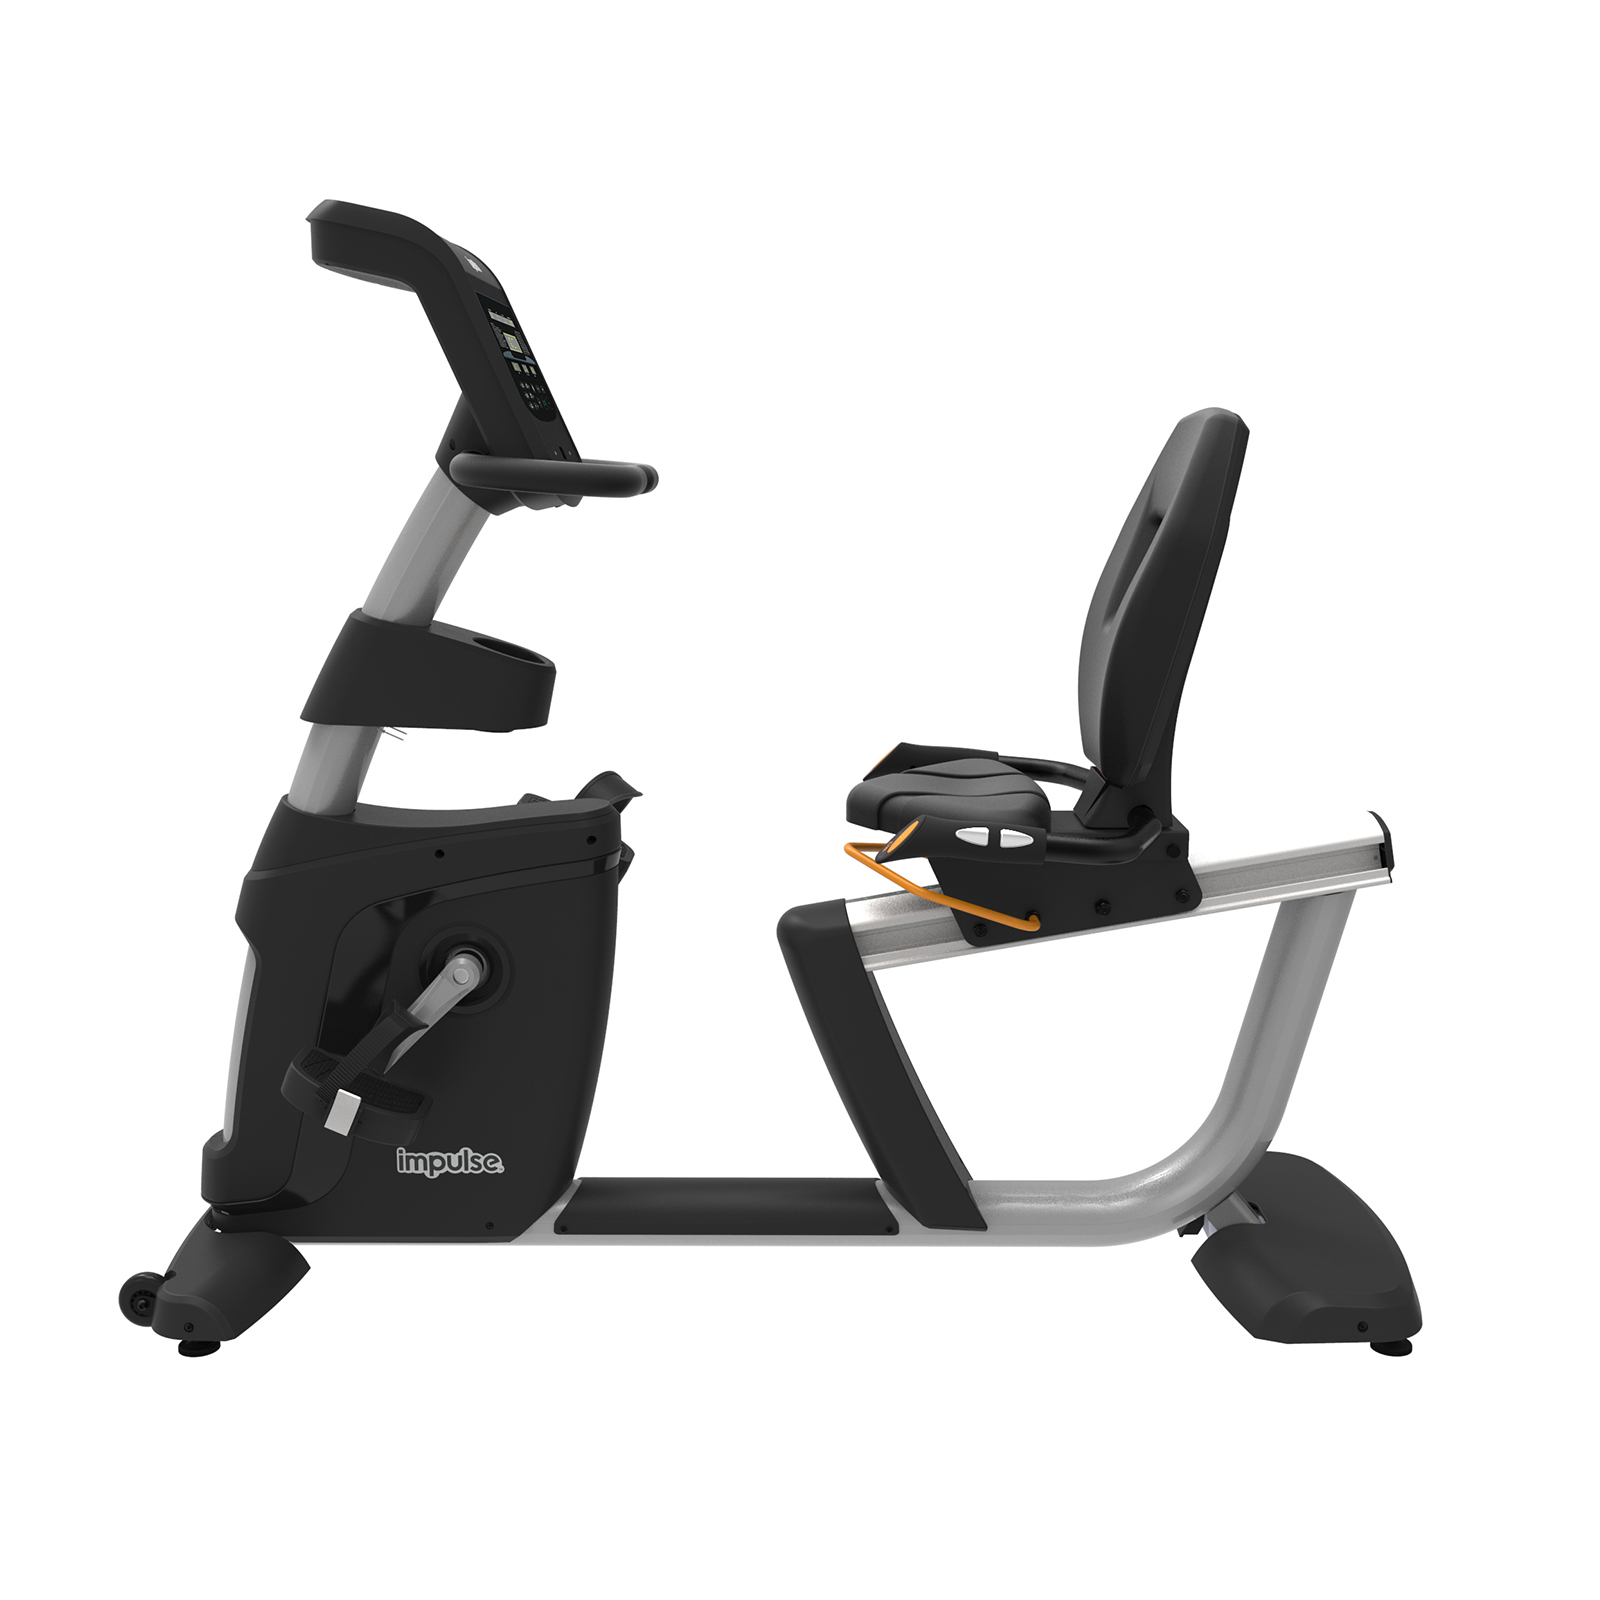gym_bike: (81, 182, 1434, 1417)
